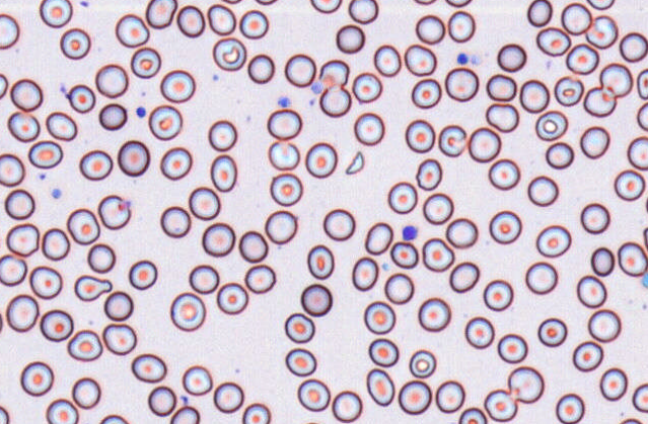PLT: (400, 222, 419, 243), (275, 96, 292, 110), (457, 52, 470, 66), (135, 105, 147, 119), (50, 187, 63, 199)
RBC: (169, 291, 205, 331), (507, 365, 544, 403), (5, 293, 39, 332), (397, 379, 432, 414), (444, 66, 479, 101), (66, 208, 100, 244), (148, 104, 182, 140), (117, 139, 150, 176), (599, 62, 633, 97), (97, 194, 131, 229), (417, 297, 451, 332), (264, 209, 298, 244), (160, 69, 195, 103), (535, 224, 571, 257), (468, 126, 501, 162), (305, 141, 337, 178), (365, 367, 395, 406), (587, 308, 621, 342), (5, 222, 39, 256), (201, 222, 235, 256), (115, 13, 149, 47), (212, 37, 246, 71), (20, 361, 53, 396), (421, 237, 454, 272), (585, 14, 618, 49), (95, 63, 128, 98), (266, 108, 302, 140), (483, 388, 517, 421), (29, 265, 62, 299), (269, 172, 302, 206), (159, 146, 192, 180), (488, 210, 521, 244), (67, 329, 102, 361), (297, 378, 330, 411), (524, 261, 557, 294), (322, 208, 355, 241), (403, 43, 436, 76), (39, 309, 73, 341), (102, 323, 136, 355), (363, 300, 395, 334), (188, 186, 220, 220), (284, 53, 316, 87), (583, 85, 616, 117), (300, 283, 332, 316), (10, 78, 42, 111), (560, 2, 592, 35), (576, 274, 607, 308), (565, 43, 599, 74), (579, 125, 610, 159), (79, 149, 113, 180), (404, 119, 435, 153), (617, 241, 647, 276), (131, 353, 166, 383), (536, 26, 571, 56), (210, 154, 237, 192), (319, 85, 351, 117), (216, 282, 248, 314), (613, 169, 645, 201), (535, 109, 567, 141), (488, 158, 520, 190), (7, 111, 40, 142), (160, 205, 191, 238), (445, 217, 478, 248), (353, 112, 384, 145), (435, 379, 465, 413), (485, 102, 519, 132), (519, 79, 549, 113), (28, 140, 63, 169), (331, 390, 362, 422), (572, 340, 603, 372), (213, 381, 244, 413), (482, 279, 513, 311), (59, 27, 90, 59), (130, 46, 161, 78), (422, 192, 453, 224), (71, 376, 101, 409), (267, 140, 300, 170), (387, 181, 417, 214), (599, 367, 628, 401), (306, 244, 334, 279), (4, 188, 35, 219), (284, 312, 315, 343), (527, 175, 558, 206), (384, 272, 414, 304), (244, 263, 276, 293), (238, 230, 268, 262), (449, 261, 479, 293), (464, 316, 494, 348), (45, 111, 77, 141), (580, 202, 610, 234), (41, 227, 70, 260), (364, 221, 393, 254), (351, 256, 378, 291), (188, 264, 219, 294), (103, 290, 133, 321), (182, 364, 212, 395), (352, 72, 382, 103), (553, 75, 583, 106), (176, 5, 205, 37), (207, 3, 236, 35), (208, 119, 237, 151), (497, 333, 527, 363), (368, 337, 398, 367), (537, 317, 567, 347), (415, 14, 445, 44), (411, 78, 441, 108), (147, 385, 176, 416), (555, 392, 584, 423), (128, 259, 157, 290), (285, 347, 316, 376), (145, 0, 177, 28), (447, 10, 475, 42), (373, 44, 401, 76), (438, 124, 466, 156), (39, 0, 72, 27), (319, 59, 349, 88), (335, 24, 365, 53), (239, 9, 268, 39), (496, 43, 526, 72), (87, 242, 115, 273), (619, 31, 647, 62), (0, 254, 27, 286), (415, 158, 442, 190), (486, 73, 516, 101), (45, 398, 78, 423), (0, 153, 25, 186), (408, 349, 436, 378), (545, 141, 574, 169), (98, 102, 127, 130), (67, 84, 95, 113), (247, 53, 274, 83), (390, 240, 418, 268), (590, 246, 615, 276), (348, 0, 378, 24), (526, 0, 552, 27), (627, 135, 647, 170), (0, 13, 19, 49), (242, 402, 270, 423), (169, 405, 200, 423), (458, 407, 487, 423), (632, 383, 647, 413), (310, 0, 341, 13), (636, 68, 647, 99), (636, 101, 647, 131), (586, 0, 615, 10), (99, 414, 128, 423), (0, 73, 8, 99), (445, 0, 472, 7), (0, 405, 9, 423), (642, 226, 648, 251), (618, 417, 642, 423), (641, 269, 648, 288), (413, 0, 436, 5), (254, 0, 277, 5), (300, 420, 325, 424), (220, 0, 242, 4), (0, 311, 3, 334), (645, 195, 648, 213)
Schistocyte: (73, 274, 113, 302), (345, 151, 366, 176)
